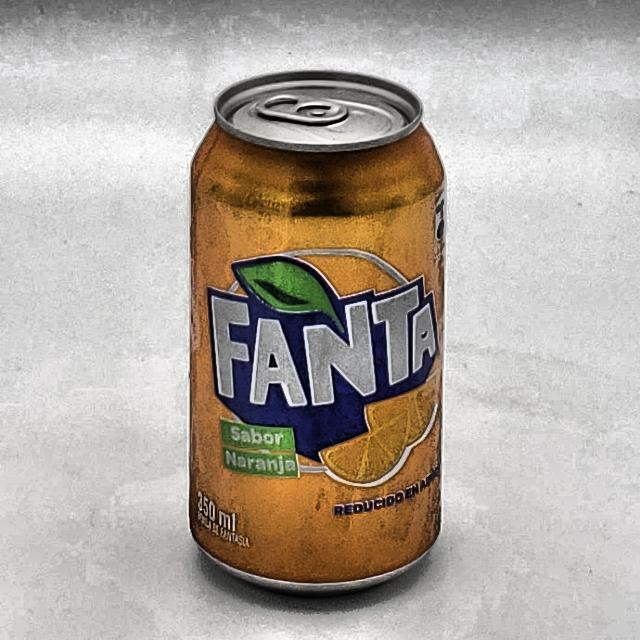Cans: (171, 55, 470, 619)
